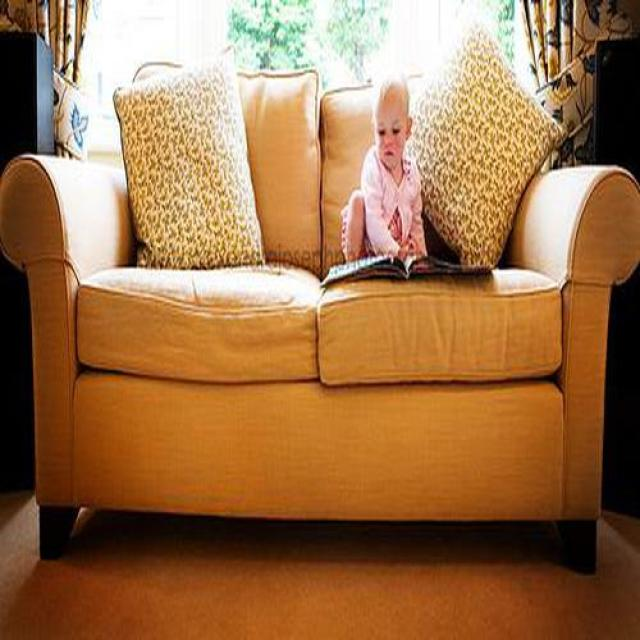sofa: (0, 18, 640, 561)
